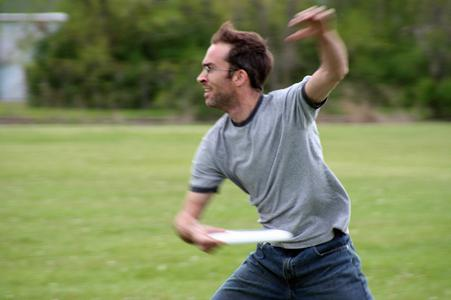person: (174, 6, 376, 300)
